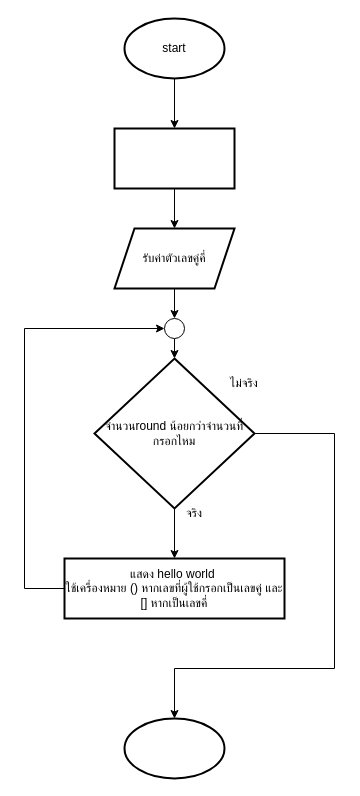
The diagram is 360 pixels wide and 796 high, and some of its shapes have lost their labels. Each missing label, with the centre of its shape:
end: the point at 174,748
กำหนดตัวแปร num และ round: the point at 174,158
